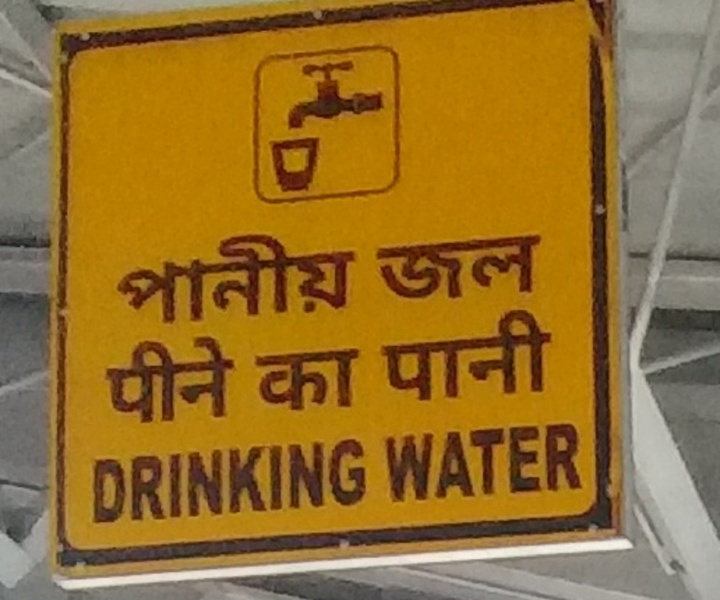text: (113, 224, 128, 336), (129, 224, 144, 336), (145, 224, 160, 336), (161, 224, 176, 336), (177, 224, 192, 336), (193, 224, 208, 336), (209, 224, 224, 336), (225, 224, 240, 336), (241, 224, 256, 336), (257, 224, 272, 336), (273, 224, 288, 336), (289, 224, 304, 336), (305, 224, 320, 336), (321, 224, 336, 336), (337, 224, 352, 336), (385, 300, 400, 407), (401, 300, 416, 407), (417, 300, 432, 407), (433, 300, 448, 407), (449, 300, 464, 407), (465, 300, 480, 407), (481, 300, 496, 407), (497, 300, 512, 407), (513, 300, 528, 407), (529, 300, 544, 407), (113, 330, 128, 429), (129, 330, 144, 429), (145, 330, 160, 429), (161, 330, 176, 429), (177, 330, 192, 429), (193, 330, 208, 429), (209, 330, 224, 429), (97, 434, 112, 529), (113, 434, 128, 529), (129, 434, 144, 529), (145, 434, 160, 529), (161, 434, 176, 529), (177, 434, 192, 529), (193, 434, 208, 529), (209, 434, 224, 529), (225, 434, 240, 529), (241, 434, 256, 529), (257, 434, 272, 529), (273, 434, 288, 529), (289, 434, 304, 529), (305, 434, 320, 529), (321, 434, 336, 529), (337, 434, 352, 529), (353, 434, 368, 529), (545, 300, 558, 407), (225, 330, 239, 429), (529, 227, 545, 311), (385, 420, 400, 505), (401, 420, 416, 505), (417, 420, 432, 505), (433, 420, 448, 505), (449, 420, 464, 505), (465, 420, 480, 505), (481, 420, 496, 505), (497, 420, 512, 505), (513, 420, 528, 505), (529, 420, 544, 505), (545, 420, 560, 505), (561, 420, 576, 505), (369, 227, 384, 311), (385, 227, 400, 311), (401, 227, 416, 311), (417, 227, 432, 311), (433, 227, 448, 311), (449, 227, 464, 311), (465, 227, 480, 311), (481, 227, 496, 311), (497, 227, 512, 311), (513, 227, 528, 311), (577, 420, 590, 505), (85, 434, 96, 529), (257, 345, 272, 413), (273, 345, 288, 413), (289, 345, 304, 413), (305, 345, 320, 413), (321, 345, 336, 413), (337, 345, 352, 413), (353, 224, 362, 336), (102, 330, 112, 429), (353, 345, 363, 413), (378, 420, 384, 505), (369, 434, 372, 529), (254, 345, 256, 413), (383, 300, 384, 407)
